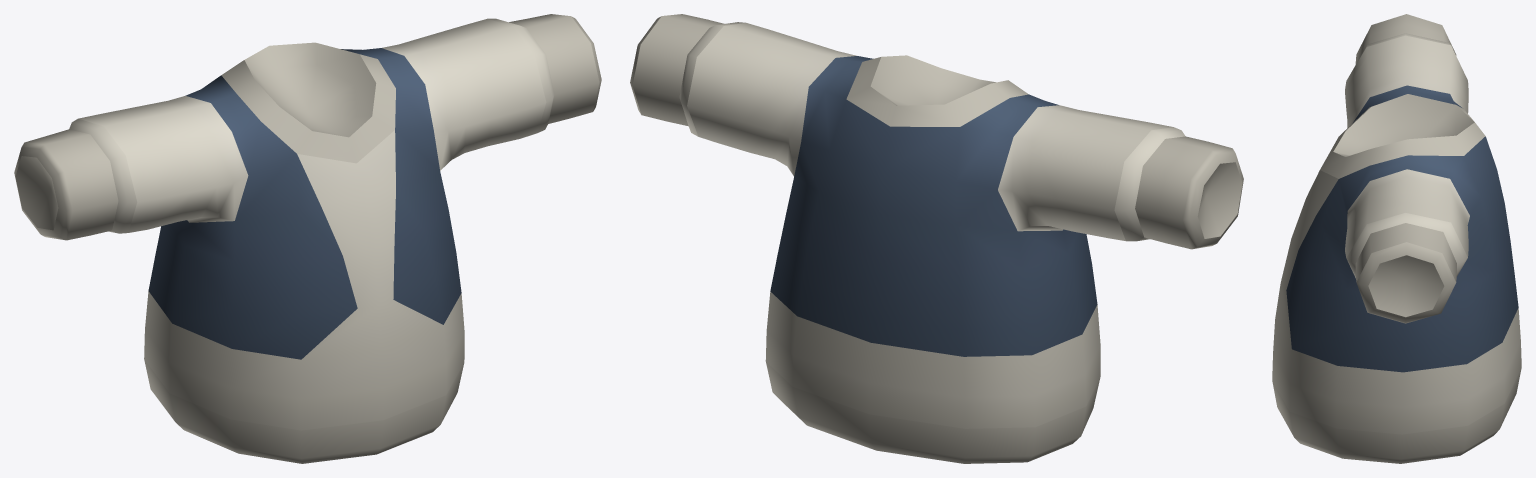
File: Top_48.fbx
3 views of the same model, side by side, from view 1: azimuth 30°, elevation 25°; view 2: azimuth 150°, elevation 25°; view 3: azimuth 270°, elevation 25° (orthographic). The views are drawn at different scales.
Visible parts, largest first — view 1: Top_48; view 2: Top_48; view 3: Top_48.
Part boxes in pixels (bbox=[...]): Top_48: bbox=[14, 14, 601, 463]; Top_48: bbox=[630, 14, 1243, 463]; Top_48: bbox=[1272, 14, 1521, 463].
Bounding box in the file's own units: 80.72 × 47.92 × 36.27.
